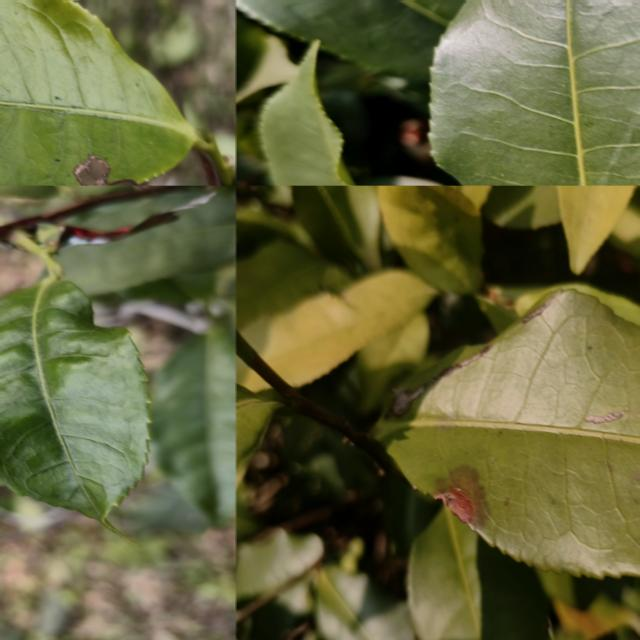Leaf: (377, 289, 640, 576), (430, 0, 640, 185), (0, 276, 150, 532), (0, 0, 199, 185), (242, 268, 434, 385), (406, 508, 551, 640), (59, 194, 236, 295), (236, 0, 464, 76), (151, 328, 236, 523), (260, 39, 355, 185), (378, 185, 482, 293), (236, 528, 323, 640), (236, 240, 328, 325), (316, 564, 416, 640), (556, 185, 636, 273), (69, 189, 203, 230), (324, 185, 380, 265), (236, 383, 281, 468), (236, 355, 269, 390)
